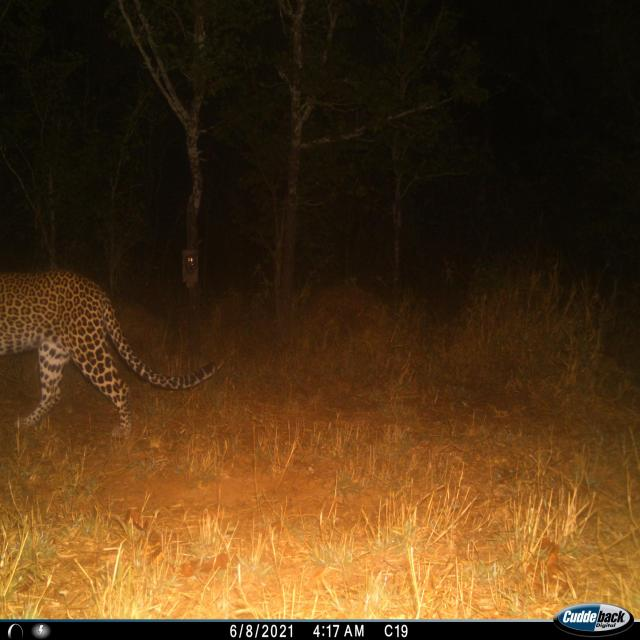Leopard: (0, 234, 231, 461)
